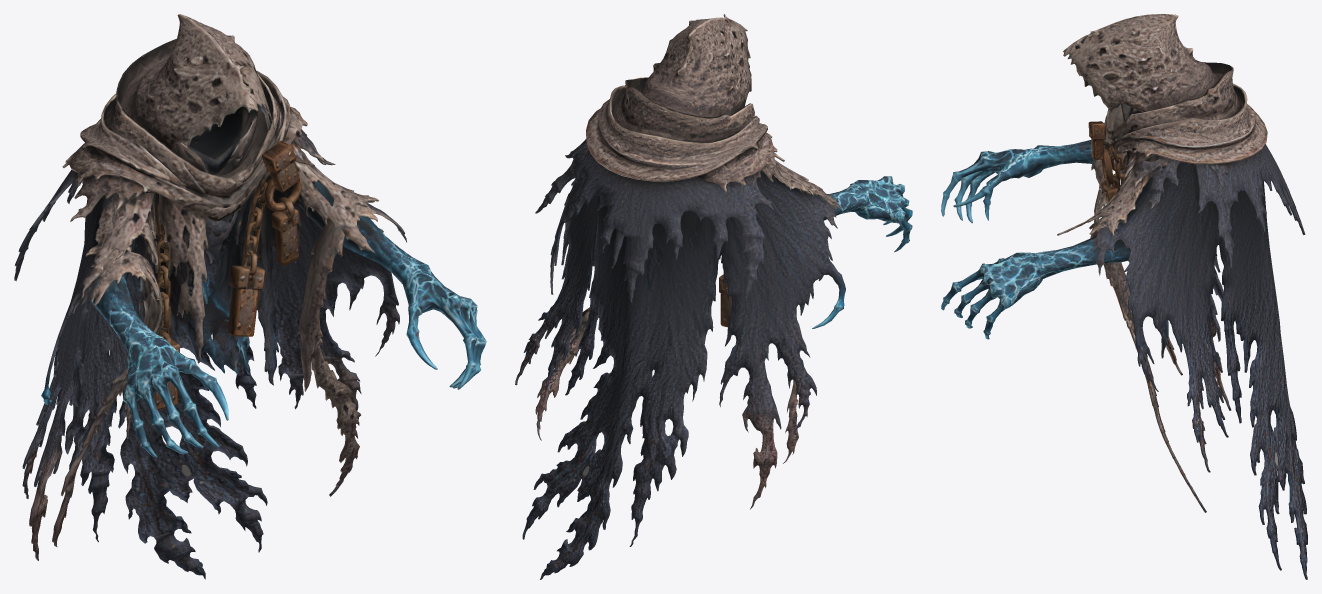
The model's file is ghost.glb.
3 renders of one model, left to right at view 1: azimuth 30°, elevation 25°; view 2: azimuth 150°, elevation 25°; view 3: azimuth 270°, elevation 25°, orthographic. The views are drawn at different scales.
Parts seen in each view (by area): view 1: tripo_node_812ebdd9-c252-4d6c-b94e-eb681522fabb; view 2: tripo_node_812ebdd9-c252-4d6c-b94e-eb681522fabb; view 3: tripo_node_812ebdd9-c252-4d6c-b94e-eb681522fabb.
Part boxes in pixels (x1=…): tripo_node_812ebdd9-c252-4d6c-b94e-eb681522fabb: x1=14, y1=14, x2=486, y2=579; tripo_node_812ebdd9-c252-4d6c-b94e-eb681522fabb: x1=515, y1=14, x2=912, y2=579; tripo_node_812ebdd9-c252-4d6c-b94e-eb681522fabb: x1=941, y1=14, x2=1307, y2=579.
Size of the model in its own units: 0.5835 by 0.9995 by 0.6333.
1 material, 1 textured.
